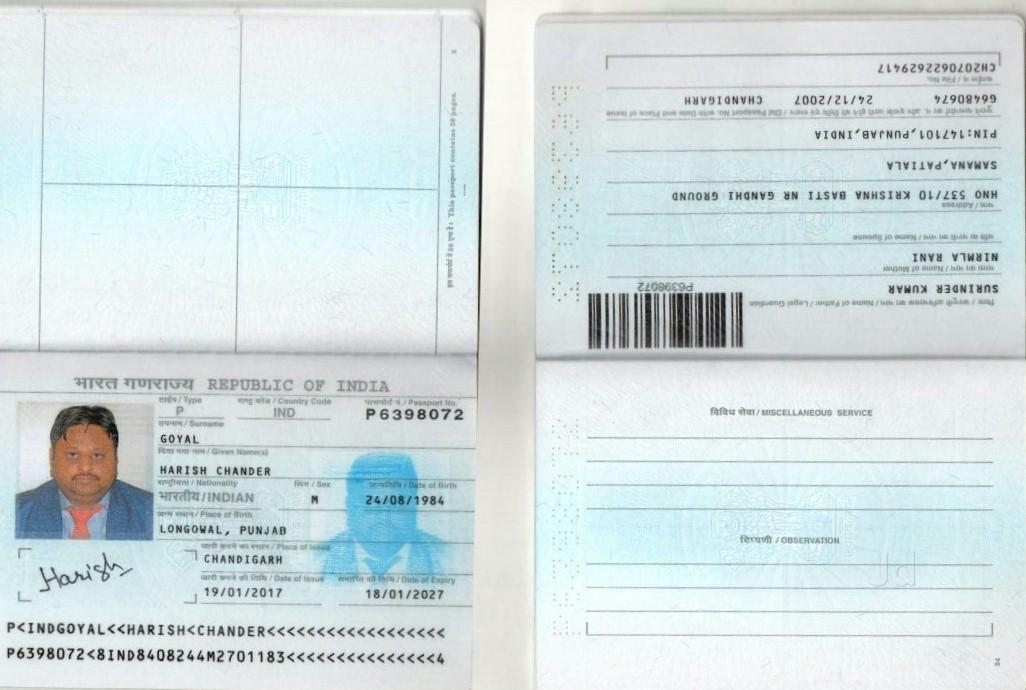DOB: (361, 490, 453, 515)
File_no: (871, 59, 998, 78)
Surname: (158, 432, 202, 447)
address: (640, 123, 1005, 204)
country_code: (268, 404, 304, 424)
date_of_expiry: (358, 584, 453, 608)
date_of_issue: (197, 583, 291, 608)
details: (4, 616, 454, 675)
father_name: (882, 278, 1002, 299)
mother_name: (904, 248, 1009, 267)
name: (157, 459, 275, 480)
nationality: (156, 486, 263, 509)
old_passport_details: (668, 86, 1003, 109)
passport_no: (362, 406, 471, 428), (632, 276, 704, 293)
photo: (18, 405, 152, 542)
place_of_birth: (158, 520, 298, 538)
place_of_issue: (197, 550, 295, 567)
sex: (306, 489, 325, 512)
sign: (32, 553, 135, 602)
type: (166, 402, 191, 419)
